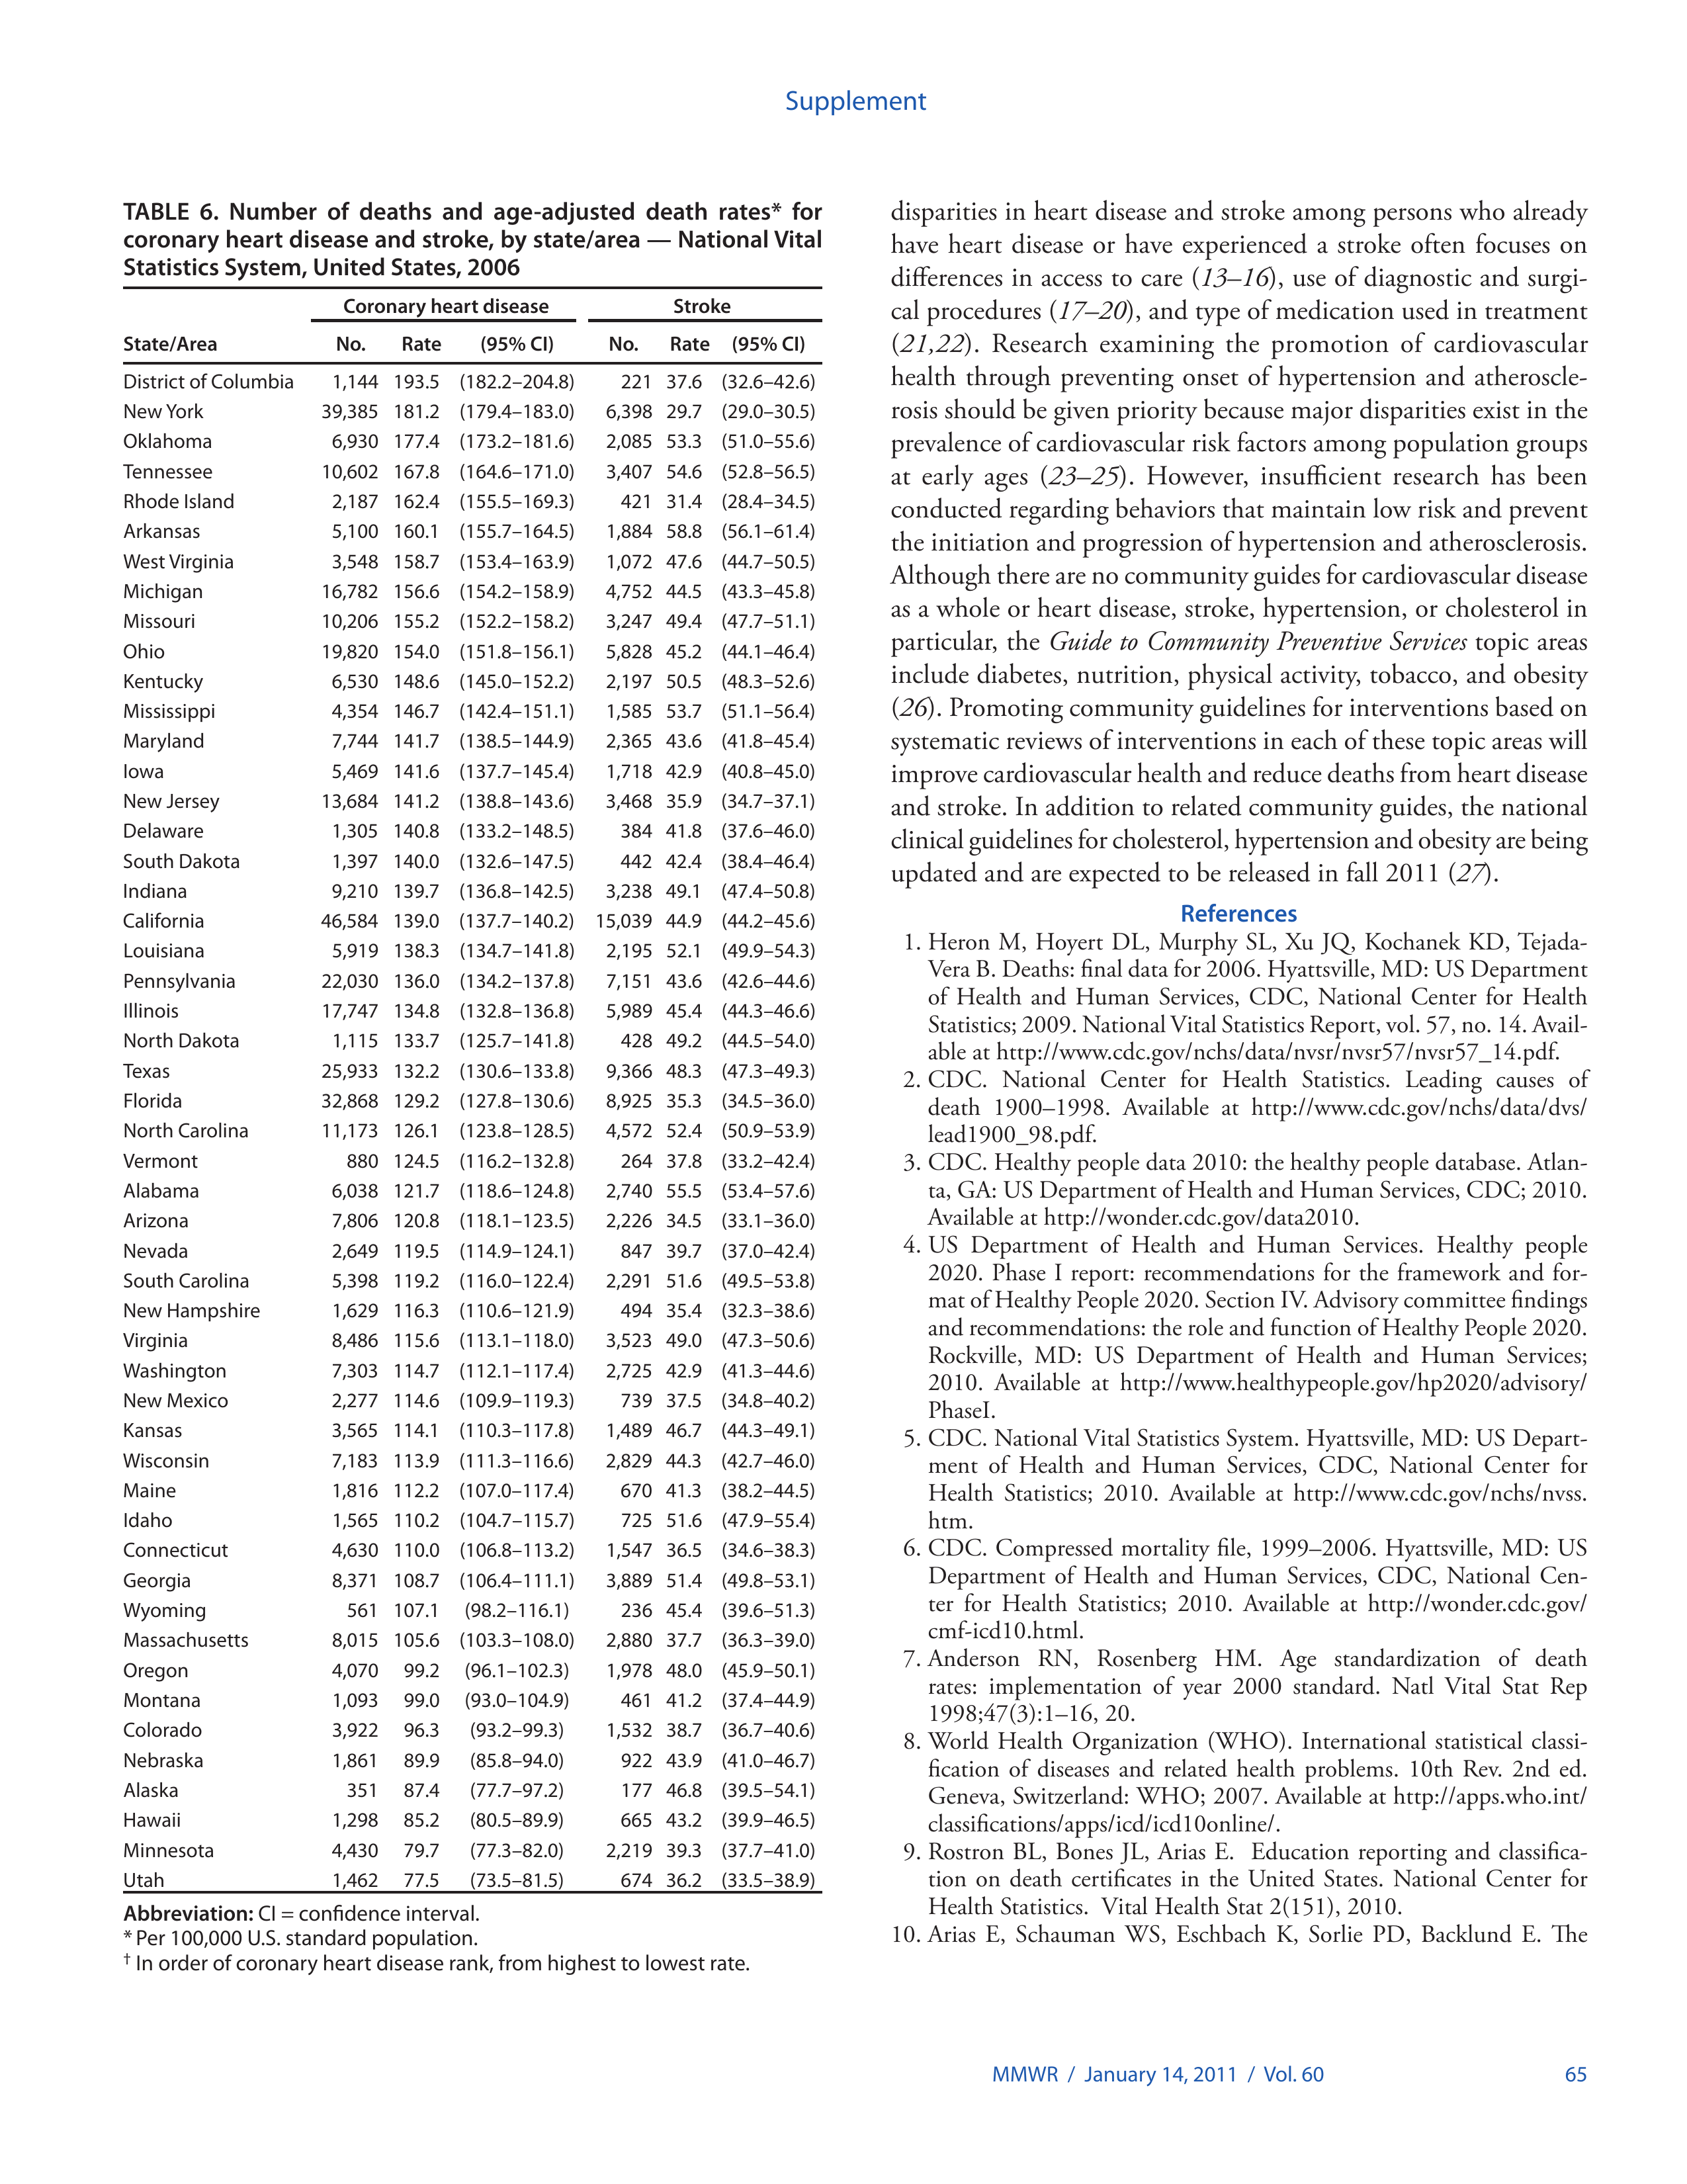table: (101, 283, 840, 1895)
